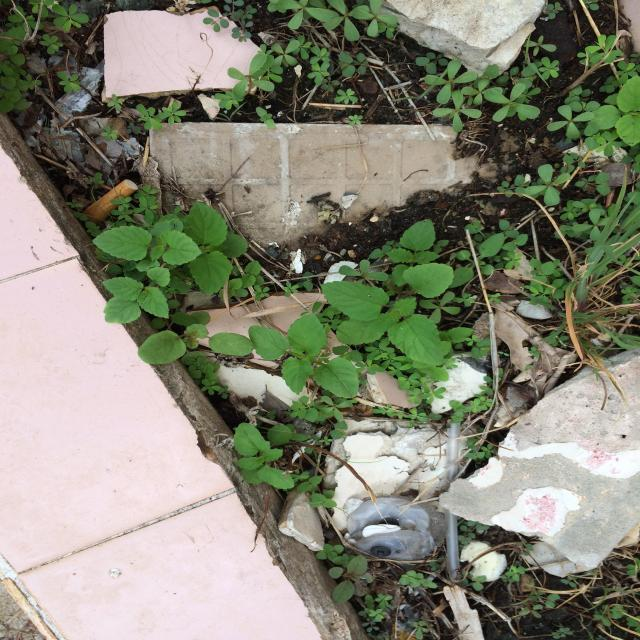litter: (237, 375, 299, 417), (561, 134, 640, 144)
